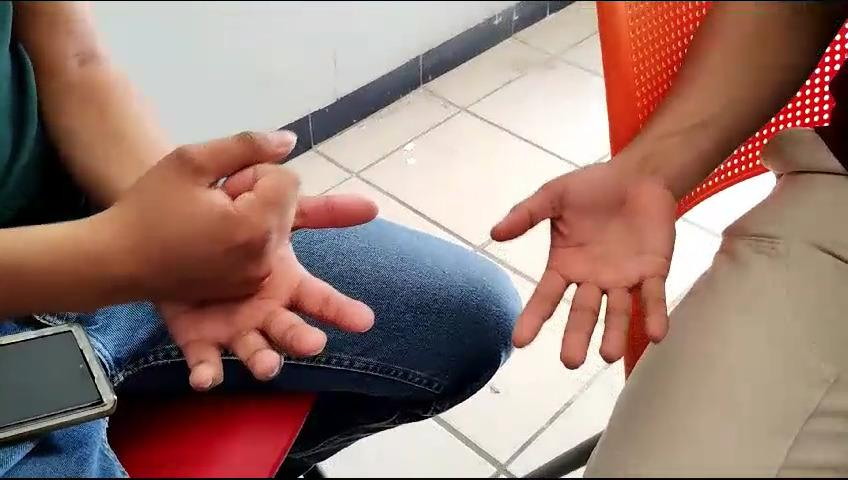Paper: (464, 127, 707, 382)
Stone: (80, 129, 362, 316)
